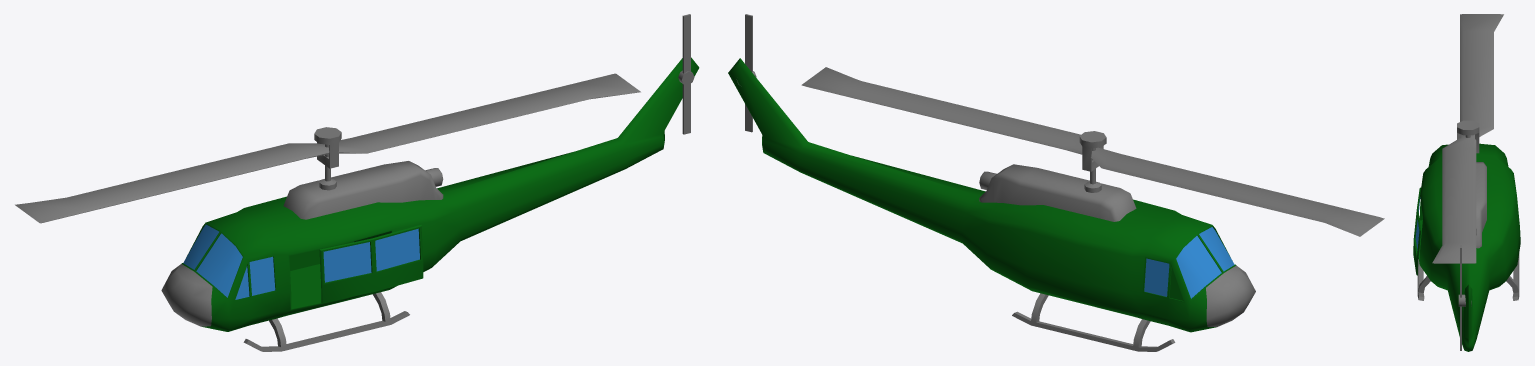
Rendered from choppa.fbx.
3 renders of one model, left to right at view 1: azimuth 30°, elevation 25°; view 2: azimuth 150°, elevation 25°; view 3: azimuth 270°, elevation 25°, orthographic. The views are drawn at different scales.
Parts seen in each view (by area): view 1: Body, BigBlade, SmallBlade; view 2: Body, BigBlade, SmallBlade; view 3: Body, BigBlade, SmallBlade.
Part boxes in pixels (x1,y1,x2,y2): Body: [161, 57, 699, 351]; BigBlade: [15, 73, 640, 223]; SmallBlade: [678, 14, 694, 134]; Body: [728, 58, 1255, 351]; BigBlade: [801, 67, 1384, 236]; SmallBlade: [736, 14, 756, 132]; Body: [1413, 143, 1520, 351]; BigBlade: [1432, 14, 1503, 263]; SmallBlade: [1458, 245, 1471, 350].
Size of the model in its own units: 1673 by 516 by 269.
